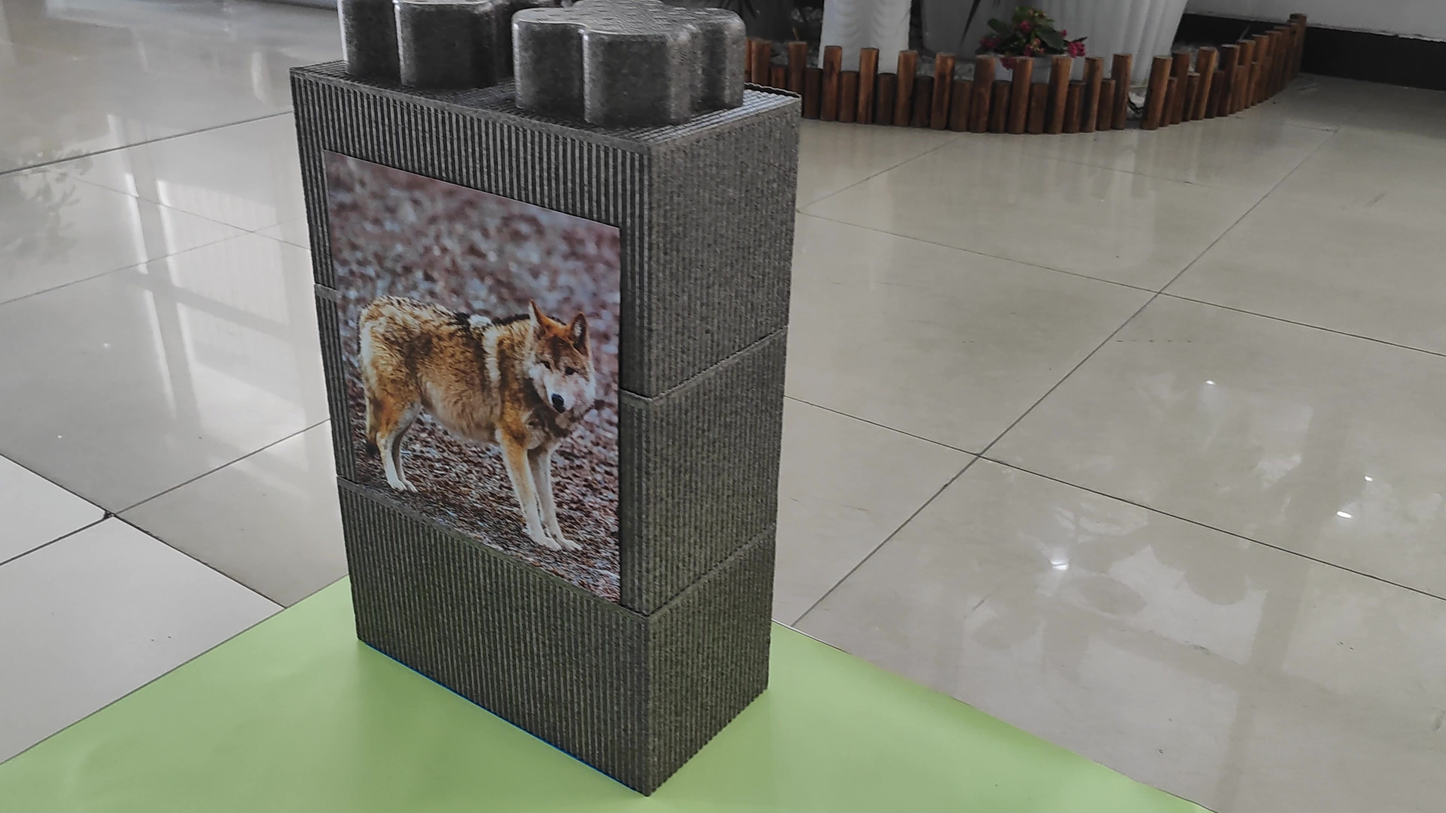wolf: (315, 251, 609, 535)
